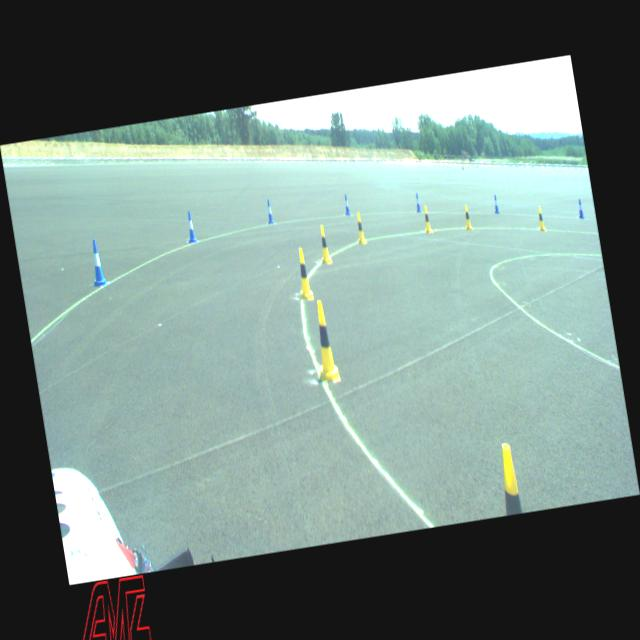blue_cone: (86, 238, 108, 288), (184, 210, 198, 243), (576, 198, 585, 220), (492, 194, 501, 215), (266, 200, 274, 223), (342, 193, 350, 216), (414, 192, 422, 212)
yellow_cone: (308, 299, 341, 385), (495, 442, 522, 516), (294, 248, 314, 300), (316, 225, 332, 265), (354, 212, 366, 244), (422, 206, 434, 234), (462, 204, 473, 230), (536, 206, 546, 231)
